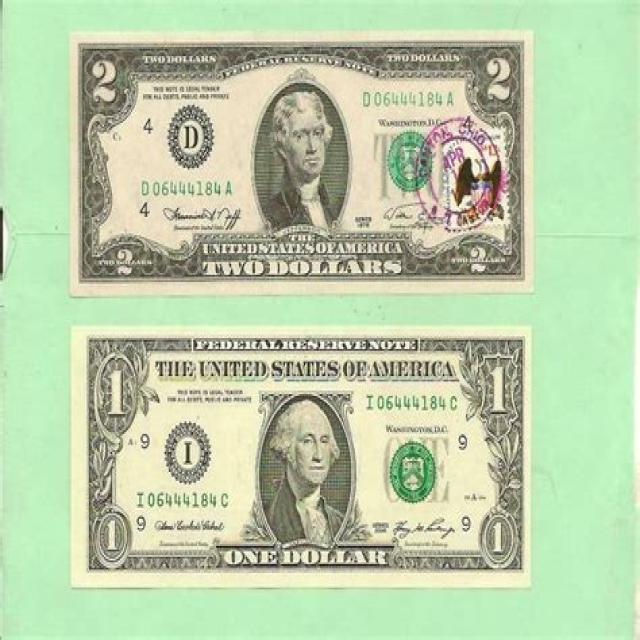One: (70, 326, 531, 586)
Two: (68, 33, 530, 292)
